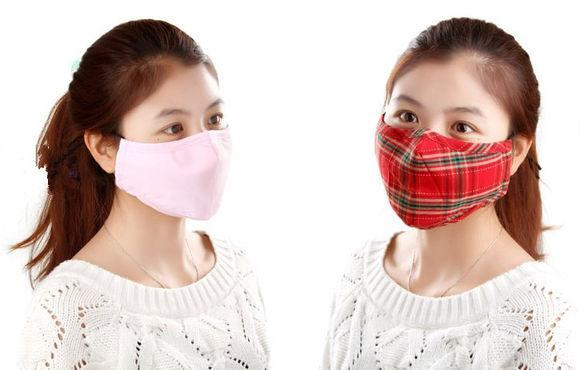OK: (375, 94, 508, 224), (119, 97, 236, 214)
